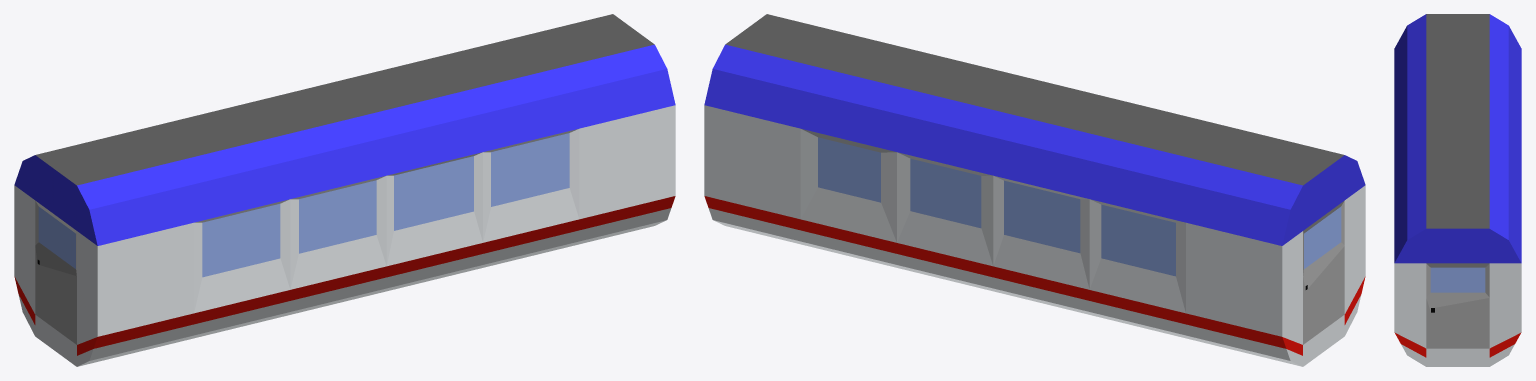
The model's file is Train_Body.fbx.
3 renders of one model, left to right at view 1: azimuth 30°, elevation 25°; view 2: azimuth 150°, elevation 25°; view 3: azimuth 270°, elevation 25°, orthographic. The views are drawn at different scales.
Parts seen in each view (by area): view 1: Train_Body; view 2: Train_Body; view 3: Train_Body.
Part boxes in pixels (left/top/right/bottom): Train_Body: left=14, top=14, right=675, bottom=366; Train_Body: left=704, top=14, right=1365, bottom=366; Train_Body: left=1394, top=14, right=1521, bottom=366.
Bounding box in the file's own units: 400 × 120 × 100.
